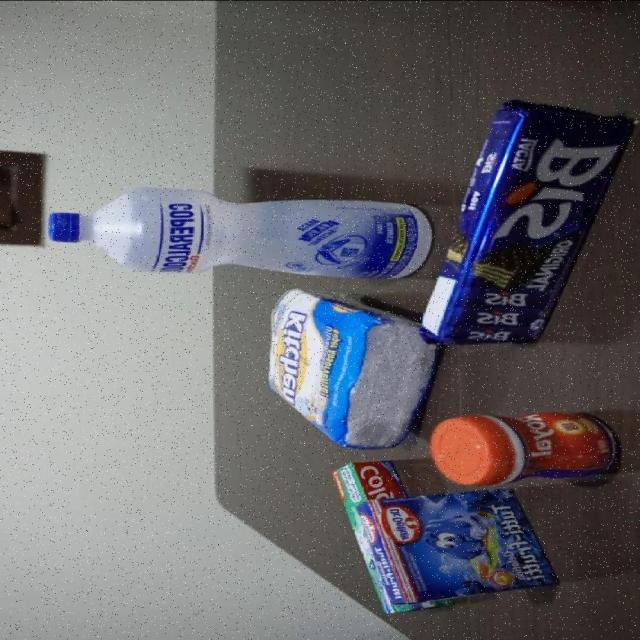AlcoholBottle: (46, 186, 423, 281)
Gelatine: (362, 488, 573, 604)
Napkin: (268, 284, 430, 452)
Yeast: (430, 411, 616, 487)
